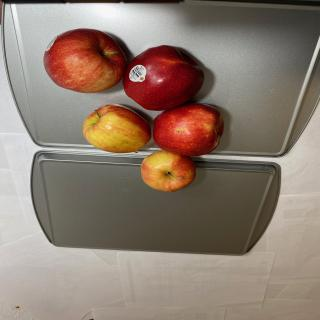Apple: (43, 28, 127, 94), (123, 45, 205, 111), (153, 103, 224, 156), (82, 104, 152, 153), (140, 150, 197, 192)
